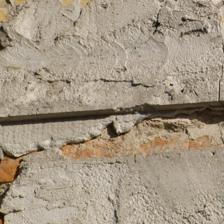Crack: (0, 70, 64, 152), (0, 133, 55, 187)
